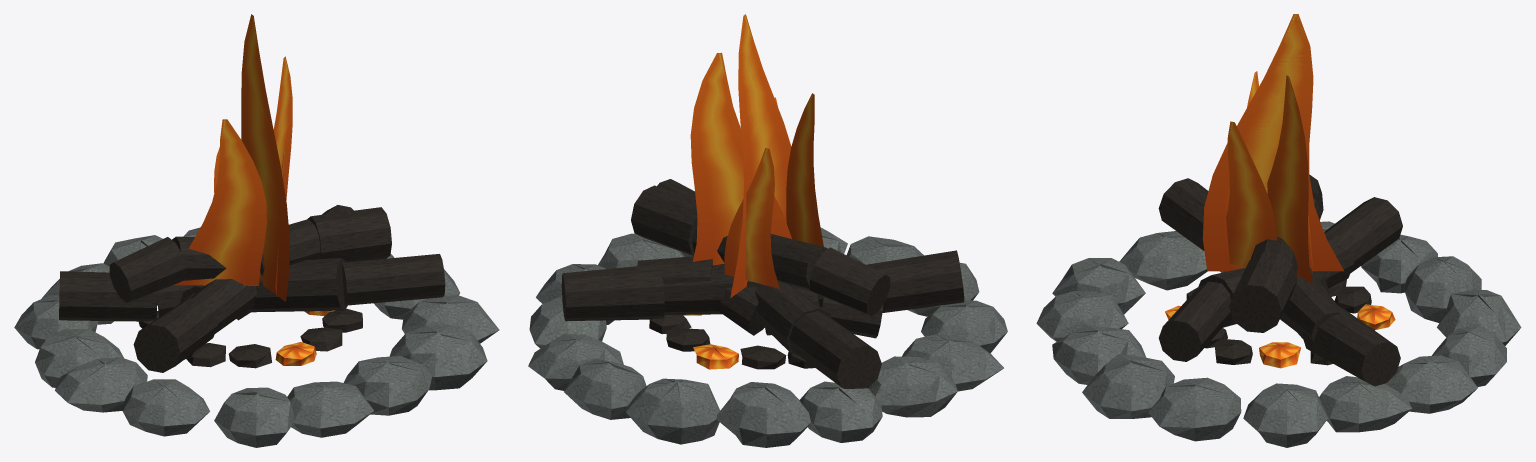
File: cs-009_campfire_strong_flame.obj
The picture shows the model from 3 angles, left to right: view 1: azimuth 30°, elevation 25°; view 2: azimuth 150°, elevation 25°; view 3: azimuth 270°, elevation 25°; orthographic projection. The views are drawn at different scales.
Parts seen in each view (by area): view 1: cs-009_campfire_strong_flame; view 2: cs-009_campfire_strong_flame; view 3: cs-009_campfire_strong_flame.
Part boxes in pixels (bbox=[...]): cs-009_campfire_strong_flame: bbox=[14, 14, 499, 447]; cs-009_campfire_strong_flame: bbox=[528, 14, 1007, 447]; cs-009_campfire_strong_flame: bbox=[1036, 14, 1521, 447].
Size of the model in its own units: 0.7873 by 0.616 by 0.7715.
3 materials, 3 textured.
